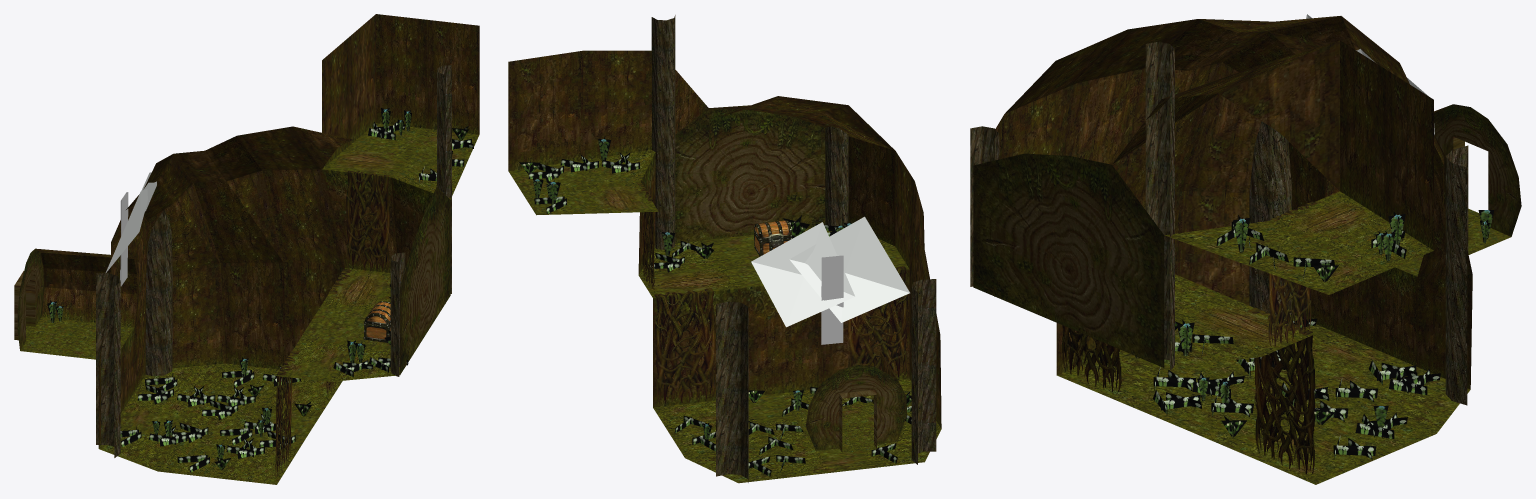
File: map.obj
The picture shows the model from 3 angles, left to right: view 1: azimuth 30°, elevation 25°; view 2: azimuth 150°, elevation 25°; view 3: azimuth 270°, elevation 25°; orthographic projection. The views are drawn at different scales.
Visible parts, largest first — view 1: SOLID.002, GROUND2, SOLID, VISUAL_PLANTS, SOLID.001, GROUND3, GROUND4, VINES.006, GROUND1, VINES.008, VISUAL, GHOST_LADDER (+1 smaller); view 2: SOLID.002, SOLID.001, SOLID, VISUAL, GROUND2, VISUAL_PLANTS, VINES.001, GROUND4, GROUND3, VINES.008, GROUND1, GHOST_LADDER (+2 smaller); view 3: SOLID.002, SOLID.001, GROUND2, SOLID, GROUND4, VISUAL_PLANTS, VINES.001, GROUND3, VINES.006, VINES.008, GROUND1.
Part boxes in pixels (x1,y1,x2,y2): SOLID.002: (35, 14, 479, 448); GROUND2: (99, 363, 342, 484); SOLID: (96, 65, 451, 457); VISUAL_PLANTS: (47, 108, 473, 472); SOLID.001: (14, 187, 450, 374); GROUND3: (277, 268, 399, 381); GROUND4: (322, 123, 479, 199); VINES.006: (346, 170, 390, 270); GROUND1: (20, 316, 134, 359); VINES.008: (275, 350, 300, 477); VISUAL: (105, 172, 156, 272); GHOST_LADDER: (120, 192, 128, 286); SOLID.002: (508, 50, 941, 428); SOLID.001: (675, 108, 907, 452); SOLID: (651, 15, 936, 482); VISUAL: (751, 216, 909, 327); GROUND2: (653, 378, 941, 483); VISUAL_PLANTS: (519, 137, 911, 476); VINES.001: (654, 288, 715, 403); GROUND4: (508, 150, 658, 215); GROUND3: (638, 228, 908, 297); VINES.008: (847, 266, 907, 377); GROUND1: (791, 402, 876, 453); GHOST_LADDER: (821, 255, 843, 344); SOLID.002: (973, 16, 1472, 389); SOLID.001: (973, 104, 1521, 367); GROUND2: (1057, 315, 1470, 484); SOLID: (970, 42, 1468, 405); GROUND4: (1165, 191, 1433, 294); VISUAL_PLANTS: (1135, 210, 1494, 459); VINES.001: (1247, 307, 1315, 474); GROUND3: (1164, 274, 1315, 367); VINES.006: (1268, 201, 1316, 346); VINES.008: (1062, 325, 1121, 392); GROUND1: (1395, 208, 1510, 276).
Bounding box in the file's own units: 18.31 × 13.96 × 14.69.
